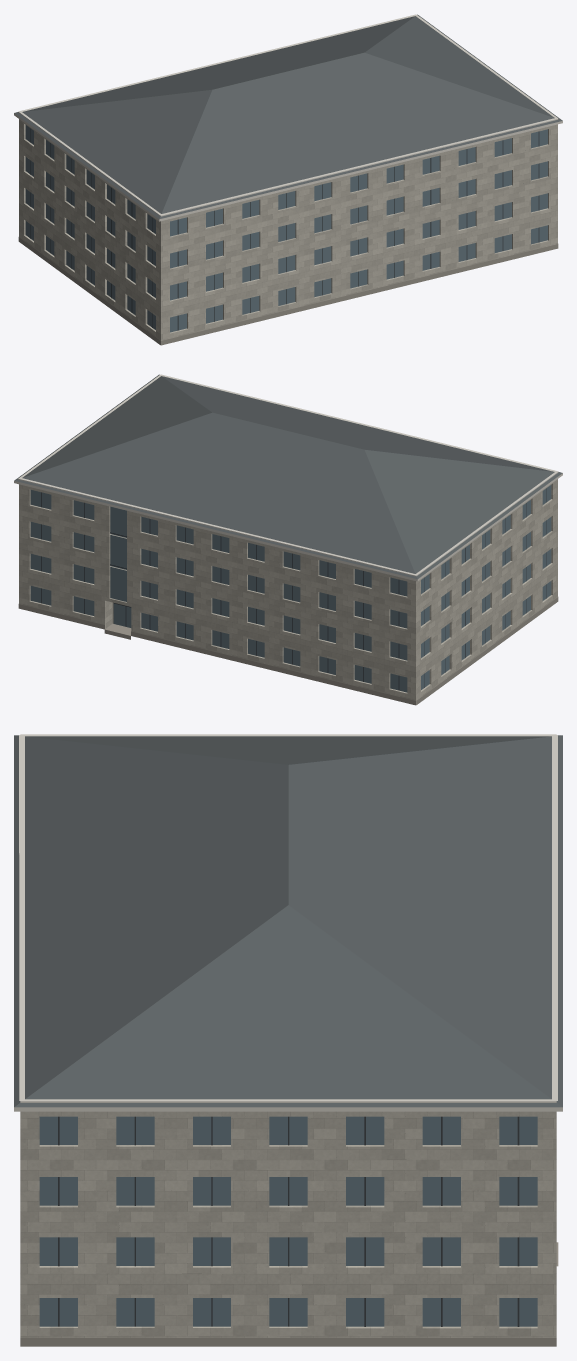
3 views of the same model, one above another, from view 1: azimuth 30°, elevation 25°; view 2: azimuth 150°, elevation 25°; view 3: azimuth 270°, elevation 25° (orthographic). The views are drawn at different scales.
Visible parts, largest first — view 1: pharmB__roofAccent, pharmB__wall, pharmB__glass, pharmB__trim, pharmB__base, pharmB__frame; view 2: pharmB__roofAccent, pharmB__wall, pharmB__glass, pharmB__trim, pharmB__base, pharmB__frame; view 3: pharmB__roofAccent, pharmB__wall, pharmB__glass, pharmB__trim, pharmB__base, pharmB__frame.
Boxes of the visible parts, x1,y1,x2,y2 form: pharmB__roofAccent: (14, 14, 562, 219); pharmB__wall: (19, 119, 557, 344); pharmB__glass: (25, 125, 547, 332); pharmB__trim: (14, 14, 562, 221); pharmB__base: (18, 237, 558, 345); pharmB__frame: (30, 128, 539, 330); pharmB__roofAccent: (14, 374, 562, 579); pharmB__wall: (19, 479, 557, 704); pharmB__glass: (30, 485, 551, 692); pharmB__trim: (14, 374, 562, 581); pharmB__base: (18, 597, 558, 705); pharmB__frame: (41, 488, 546, 690); pharmB__roofAccent: (14, 735, 562, 1107); pharmB__wall: (20, 1111, 556, 1337); pharmB__glass: (39, 1116, 537, 1326); pharmB__trim: (14, 734, 562, 1111); pharmB__base: (20, 1242, 558, 1346); pharmB__frame: (58, 1116, 519, 1326).
Size of the model in its own units: 46.2 by 19.4 by 28.8.
9 materials, 1 textured.
